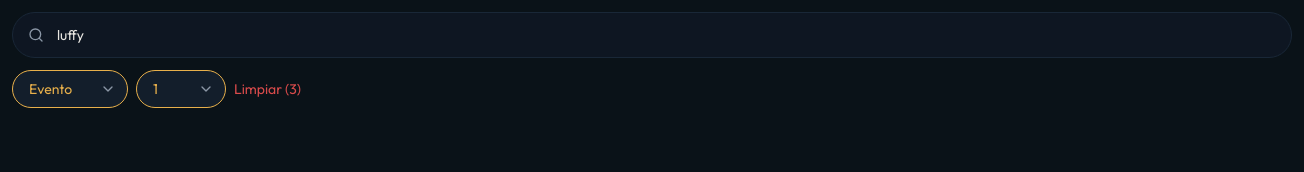
CardFilters › Limpiar vacía el campo y notifica los filtros vacíos
Click the button "Limpiar (3)" at (268, 89), box [234,79,301,99]
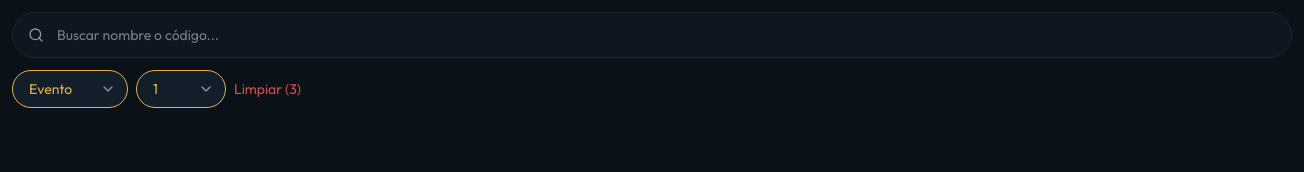
Result: the search field named "Buscar carta" is empty at [12,12,1292,58]
